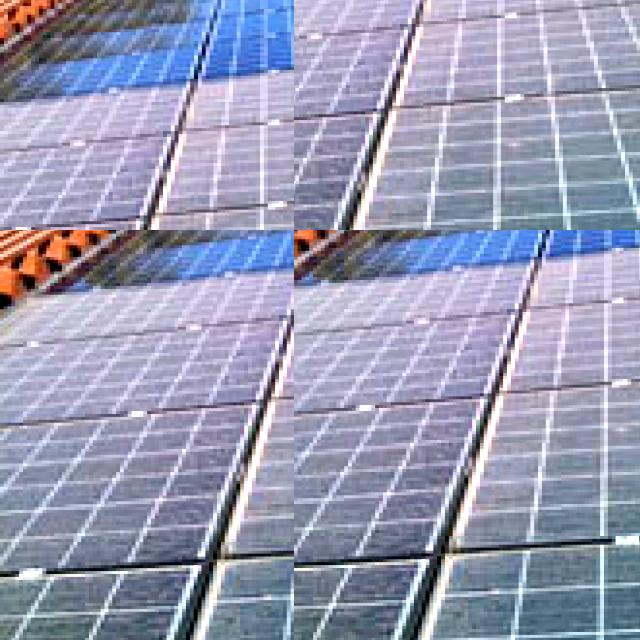dust: (294, 416, 455, 565), (294, 316, 477, 412), (451, 550, 640, 640), (534, 413, 640, 519), (294, 573, 391, 640), (567, 314, 640, 373)
